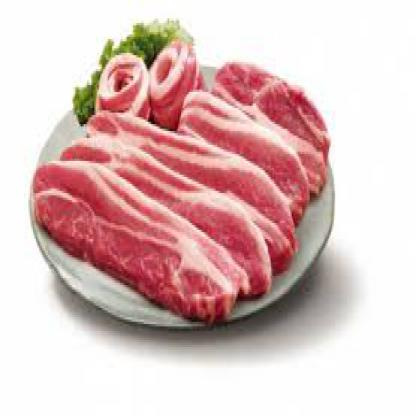pork: (45, 159, 233, 331), (88, 113, 288, 264), (166, 64, 328, 204)
